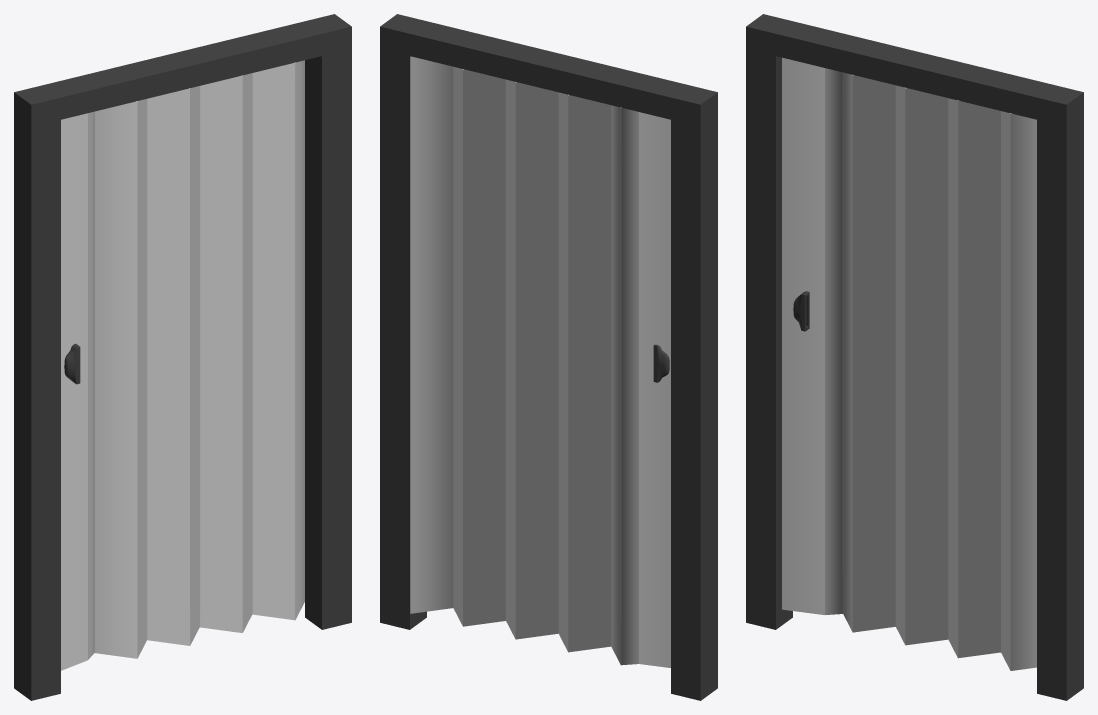
File: PortaSanfonada_MESH.fbx
The picture shows the model from 3 angles, left to right: view 1: azimuth 30°, elevation 25°; view 2: azimuth 150°, elevation 25°; view 3: azimuth 330°, elevation 25°; orthographic projection.
Parts seen in each view (by area): view 1: Porta, BatenteDaPorta, Maçaneta0; view 2: Porta, BatenteDaPorta; view 3: Porta, BatenteDaPorta, Maçaneta0.
Part boxes in pixels (bbox=[...]): Porta: bbox=[61, 60, 304, 670]; BatenteDaPorta: bbox=[14, 14, 351, 700]; Maçaneta0: bbox=[64, 343, 80, 384]; Porta: bbox=[410, 56, 670, 667]; BatenteDaPorta: bbox=[380, 14, 717, 700]; Porta: bbox=[782, 57, 1036, 670]; BatenteDaPorta: bbox=[746, 14, 1083, 700]; Maçaneta0: bbox=[793, 291, 809, 331].
Size of the model in its own units: 10.77 by 19.13 by 1.
